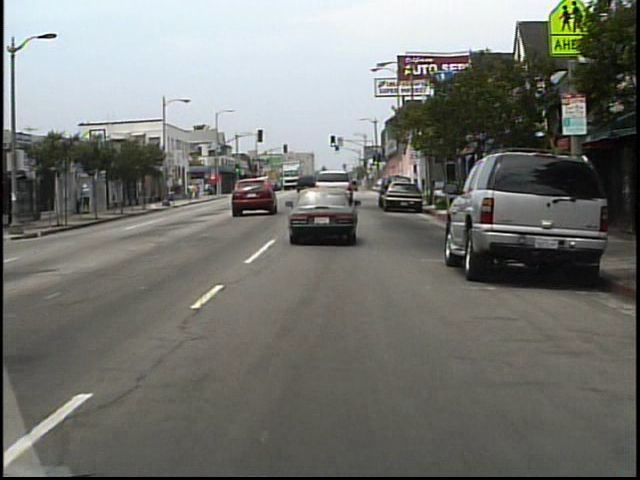person: (83, 184, 96, 214)
